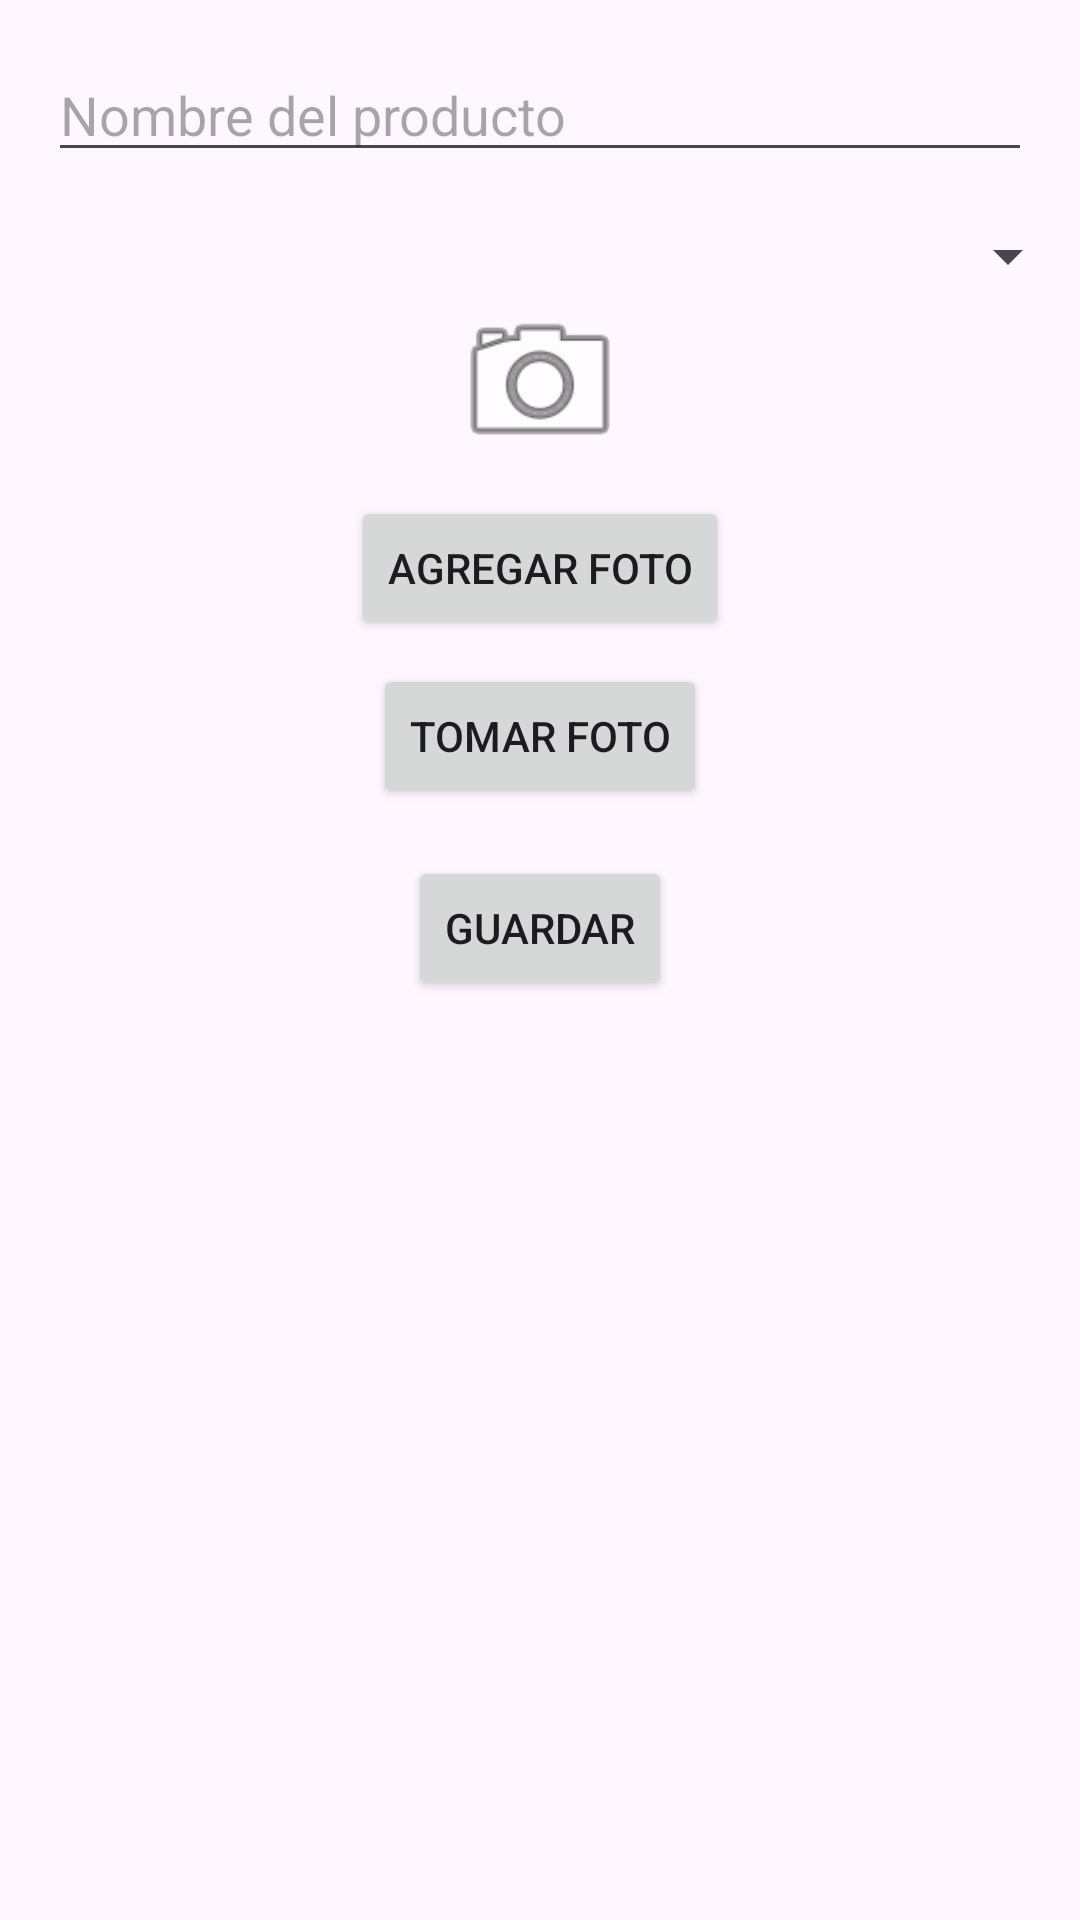

Locate icon controls on the screen. Image size 1080×1920, boxes as (x1, y1, x2, y2).
Foto del producto: (470, 324, 610, 435)
